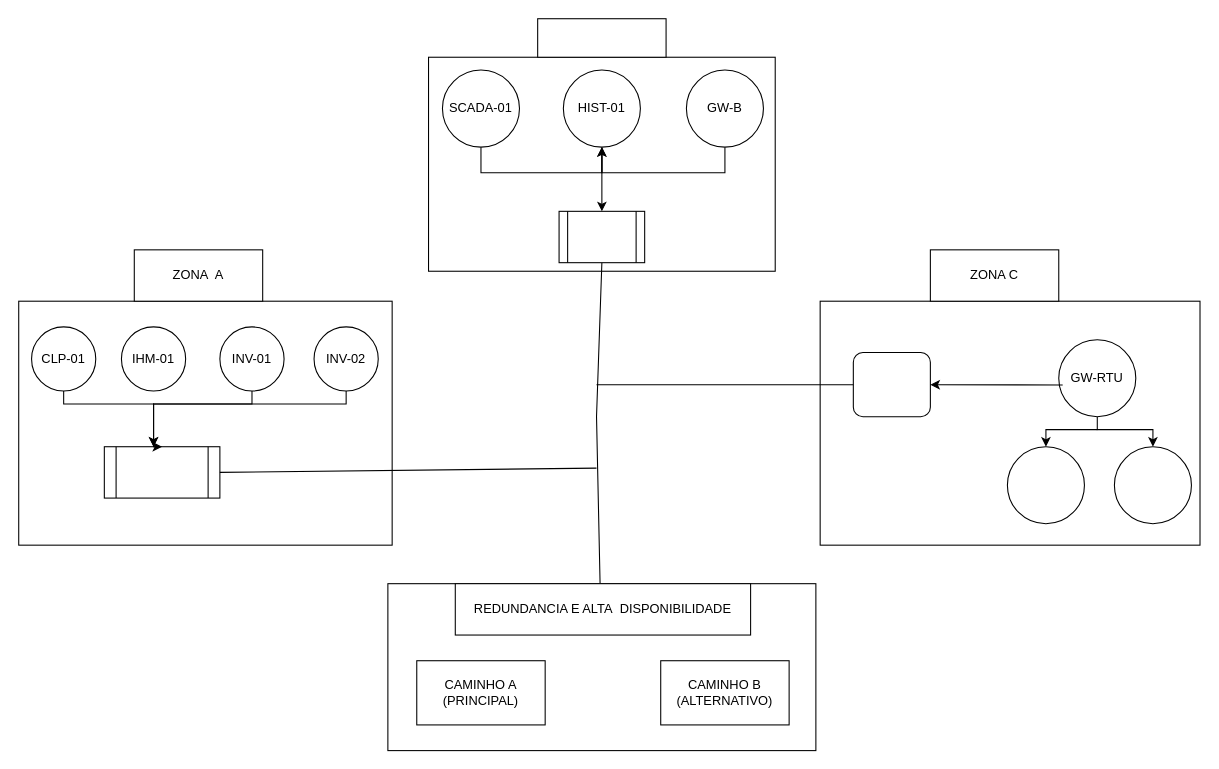
The diagram is 1219 pixels wide and 769 high, and some of its shapes have lost their labels. The box of each missing label's shape, as (x1, y1, x2, y2) in pixels:
ENG-01: (852, 351, 930, 417)
LEG-01: (1006, 446, 1084, 524)
LEG-02: (1113, 446, 1191, 524)
switch A: (103, 446, 220, 498)
switch B: (558, 210, 645, 263)
ZONA B: (537, 18, 666, 57)
